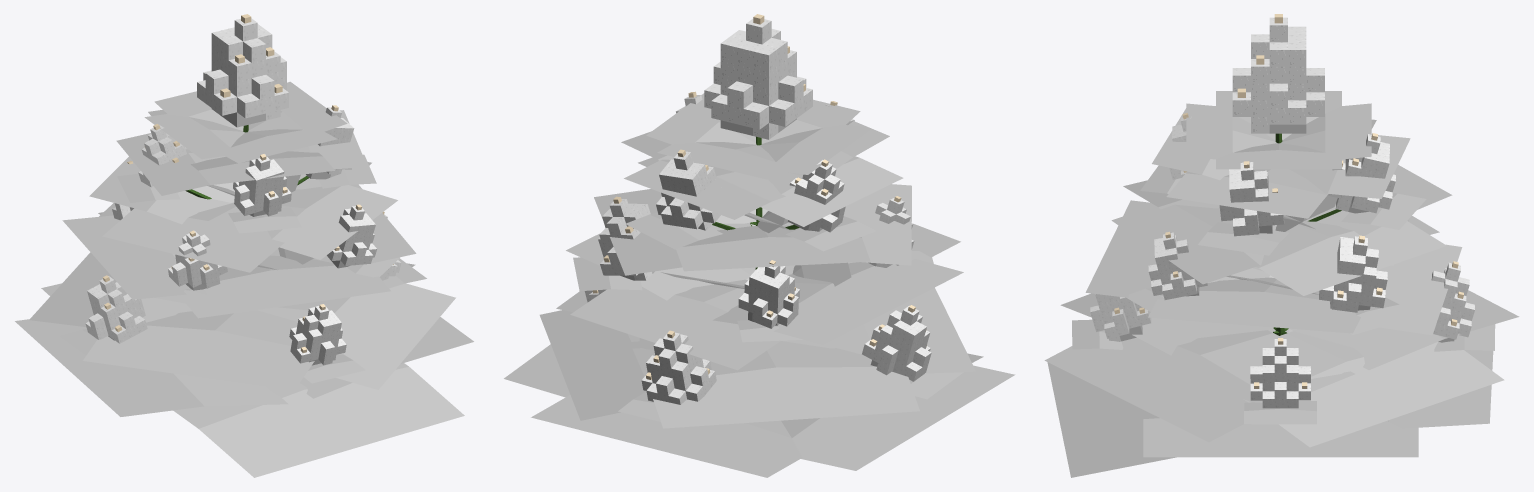
File: plant_3_0_2.obj
The picture shows the model from 3 angles, left to right: view 1: azimuth 30°, elevation 25°; view 2: azimuth 150°, elevation 25°; view 3: azimuth 270°, elevation 25°; orthographic projection. The views are drawn at different scales.
Parts seen in each view (by area): view 1: model; view 2: model; view 3: model.
Part boxes in pixels (bbox=[...]): model: bbox=[15, 14, 473, 477]; model: bbox=[504, 14, 1015, 477]; model: bbox=[1044, 14, 1519, 477].
Size of the model in its own units: 1.09 by 1.07 by 1.12.
